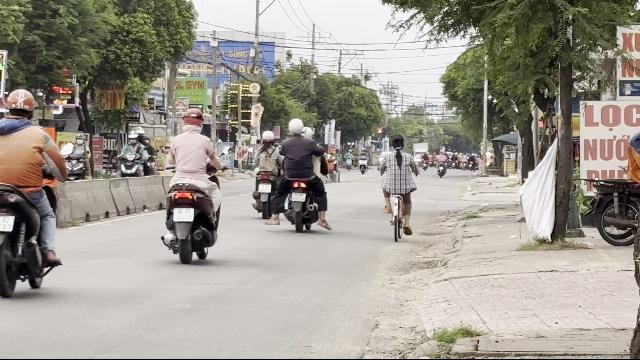helmet: (3, 88, 35, 120), (180, 107, 203, 131), (286, 117, 304, 135)
licenseplate: (173, 208, 193, 222), (291, 192, 307, 202)
motorcyclist: (0, 87, 68, 297), (158, 107, 224, 263), (275, 116, 331, 231), (624, 88, 640, 258)
